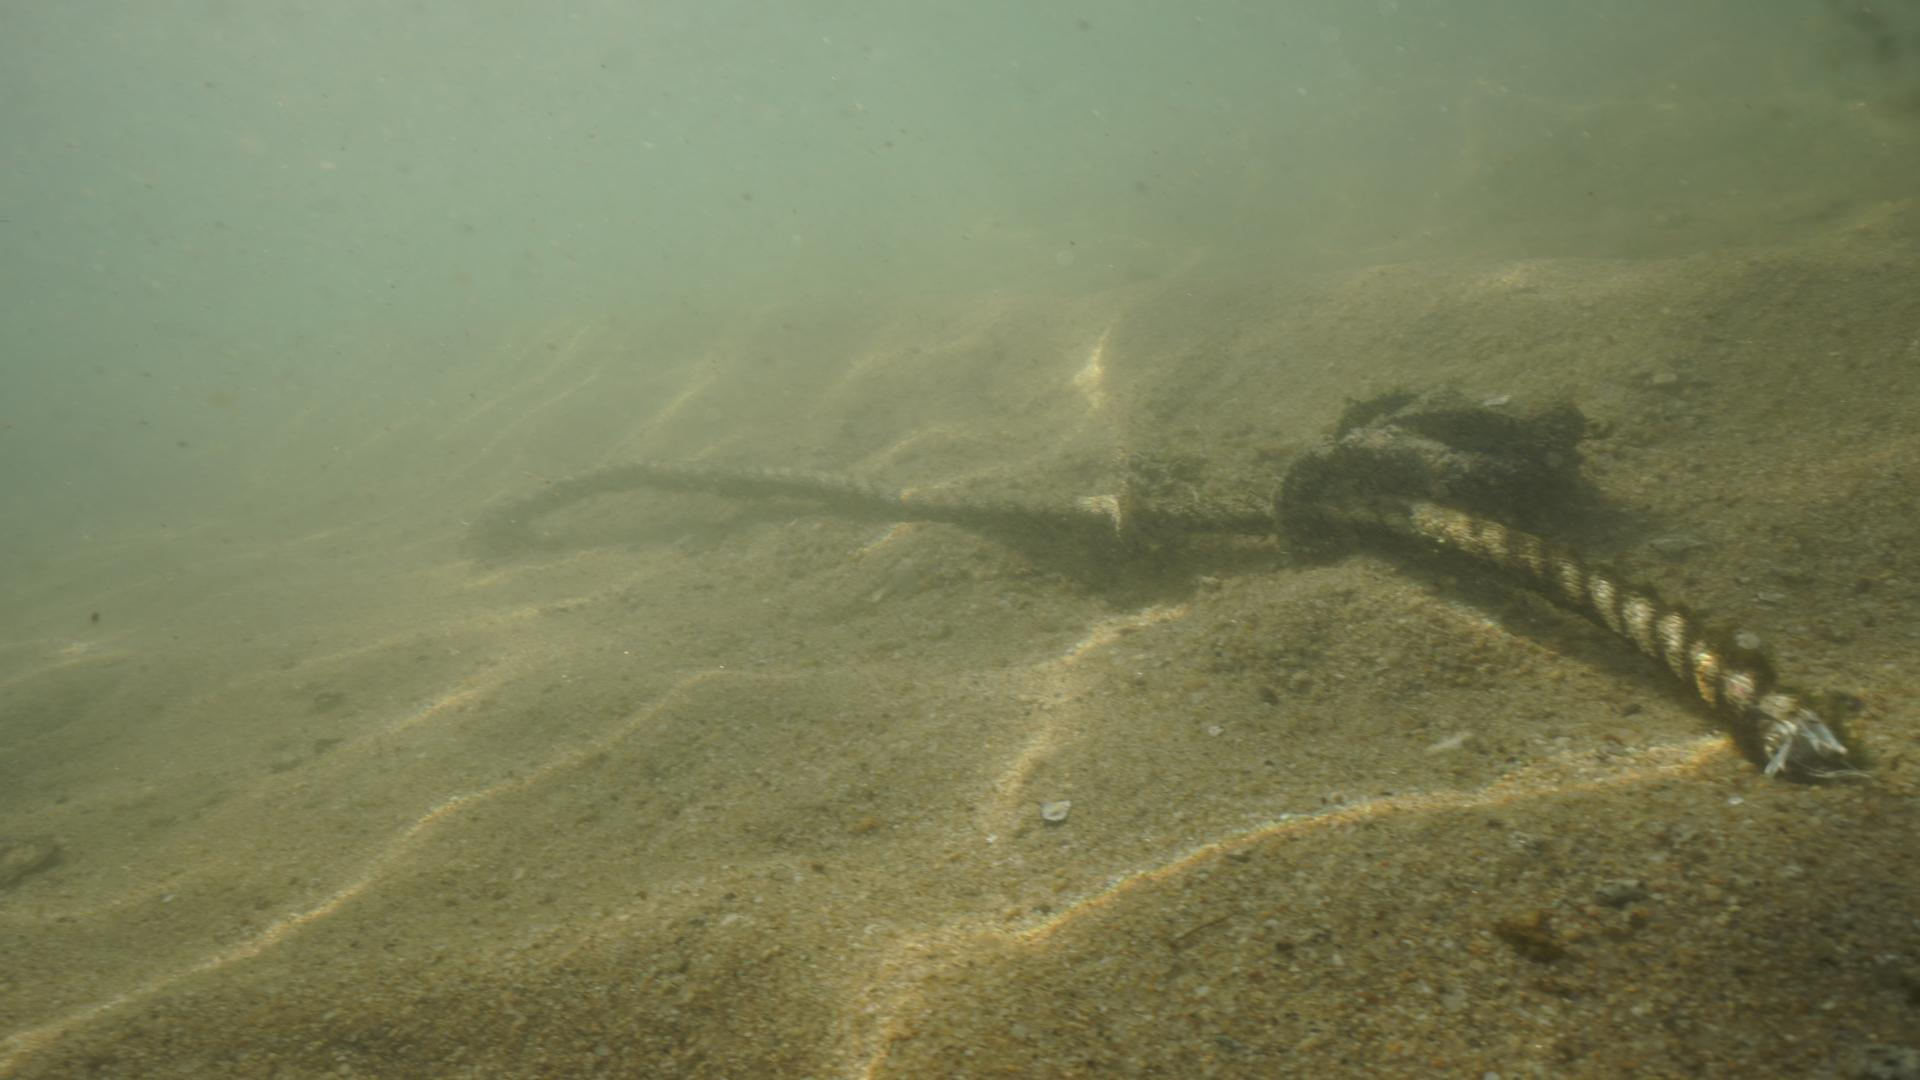rope: (462, 454, 1809, 744)
